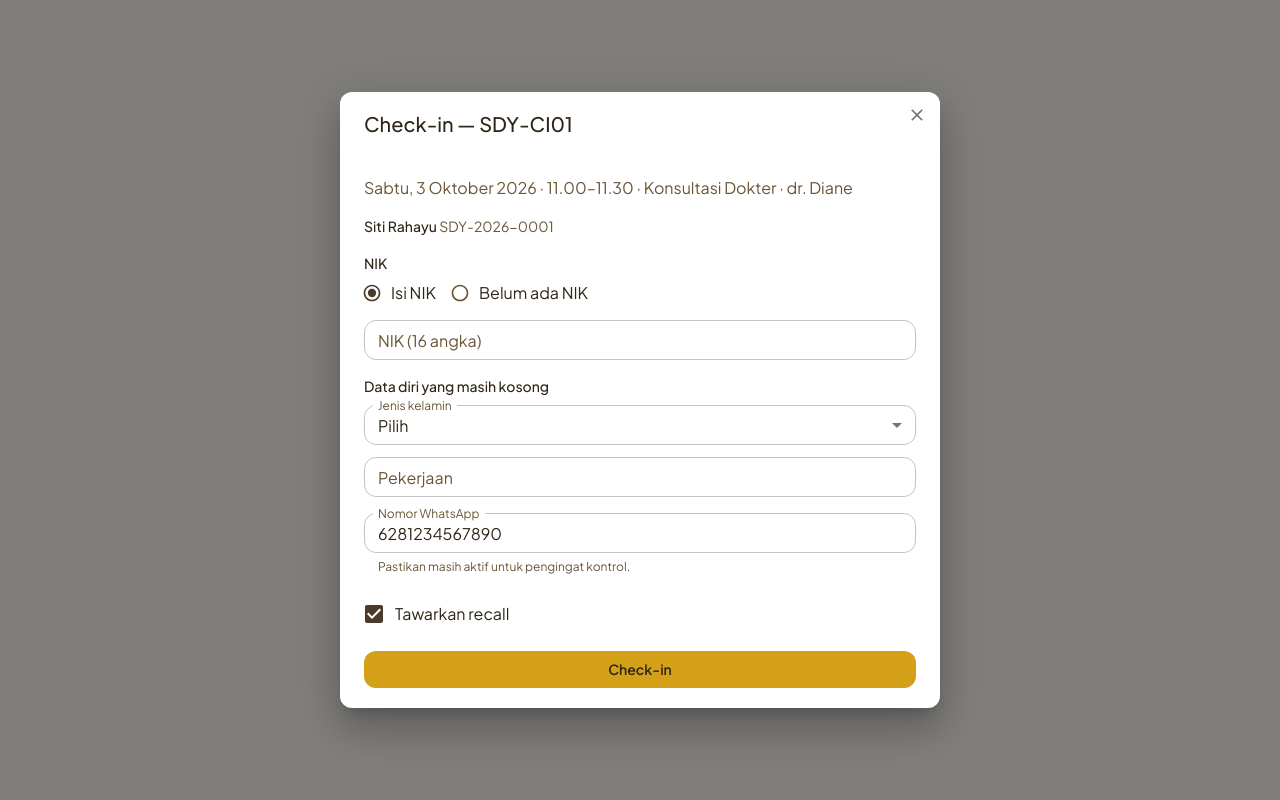
it: CheckInDialog › menampilkan hanya data diri yang masih kosong, dan NIK wajib
Check: the text "Sabtu, 3 Oktober 2026 · 11.00–11.30 · Konsultasi Dokter · dr. Diane" is shown, box [364,176,916,200]
Check: the dropdown labelled "Jenis kelamin" is shown, box [364,405,916,445]
Click the button "Check-in".
click(640, 669)  # box [364,651,916,688]
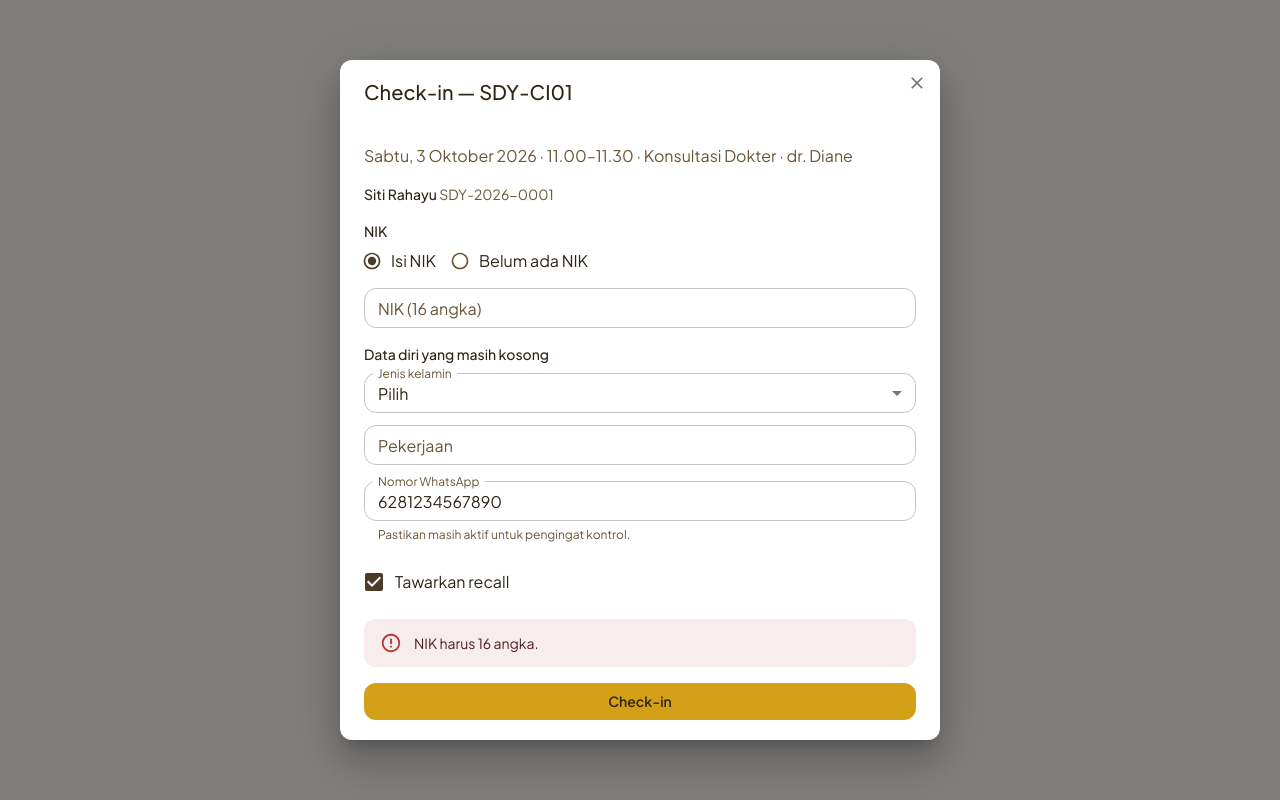
Check: the message reads "NIK harus 16 angka.", box [414,634,538,652]
